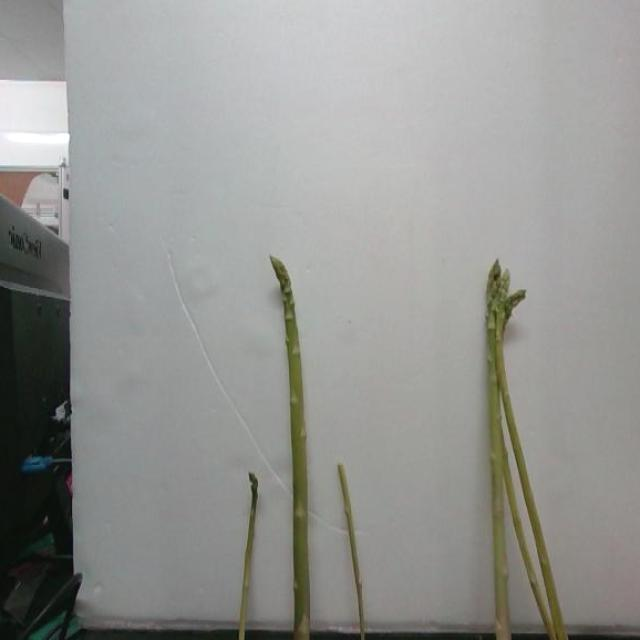aspargus: (269, 258, 310, 640), (334, 465, 370, 640), (239, 475, 261, 640)
